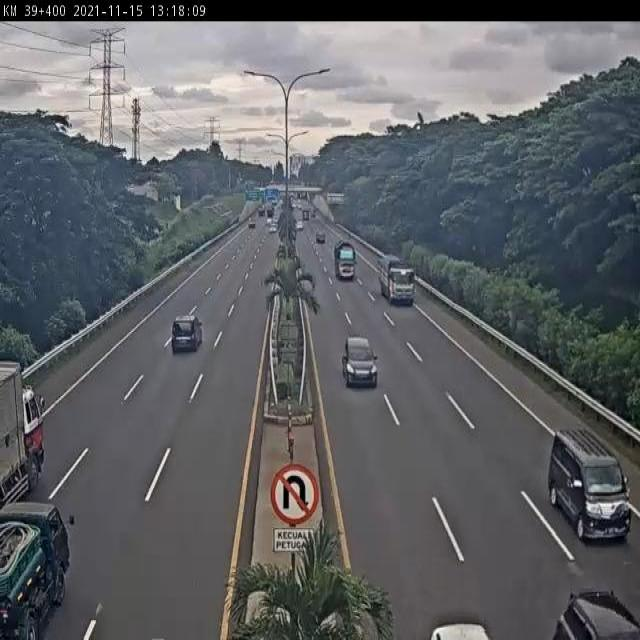Car: (341, 335, 378, 388), (170, 314, 202, 353)
Truck: (0, 498, 77, 640), (0, 356, 51, 504), (376, 253, 416, 306), (333, 240, 356, 282)
Van: (547, 425, 633, 542)
